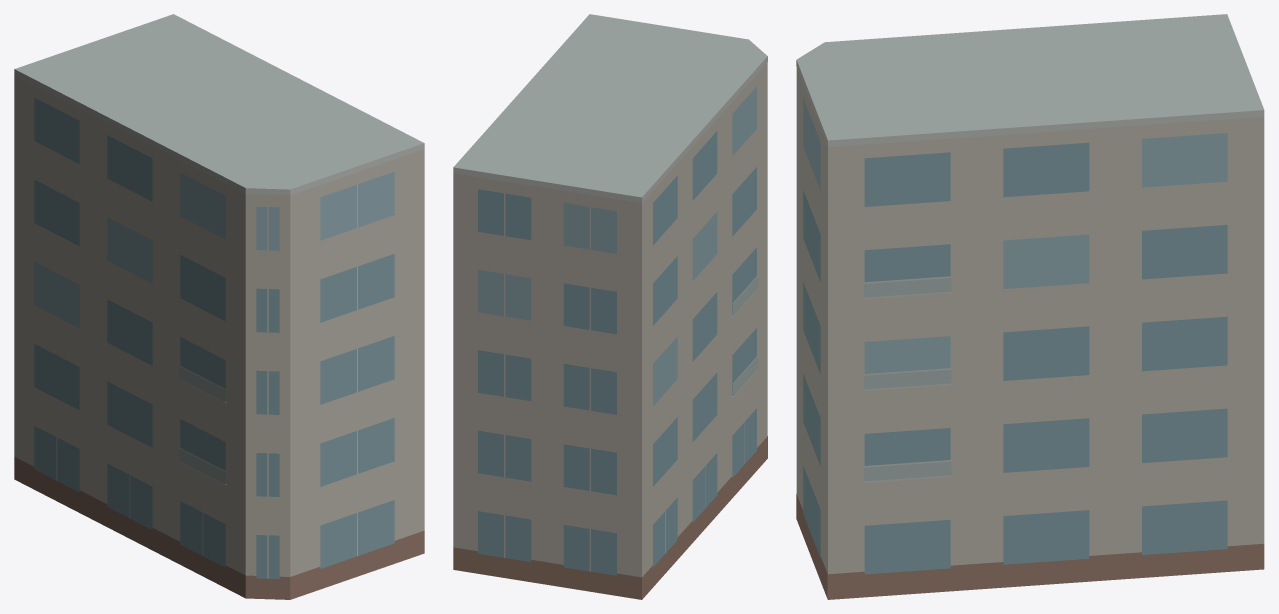
The model's file is survey-upis-32574640.glb.
3 views of the same model, side by side, from view 1: azimuth 30°, elevation 25°; view 2: azimuth 150°, elevation 25°; view 3: azimuth 270°, elevation 25° (orthographic). The views are drawn at different scales.
Parts seen in each view (by area): view 1: survey-upis-32574640.tmp; view 2: survey-upis-32574640.tmp; view 3: survey-upis-32574640.tmp.
Part boxes in pixels (box(x1,y1,x2,y2)): survey-upis-32574640.tmp: box(14, 14, 424, 599); survey-upis-32574640.tmp: box(453, 14, 767, 599); survey-upis-32574640.tmp: box(796, 14, 1264, 599).
Size of the model in its own units: 9.94 by 16.8 by 15.52.
